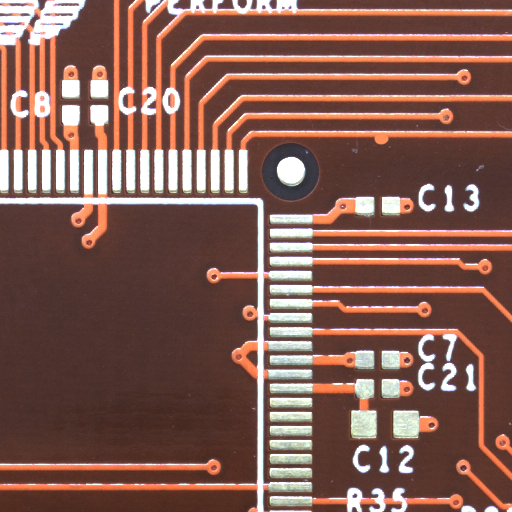Spur: (381, 140, 398, 151)
